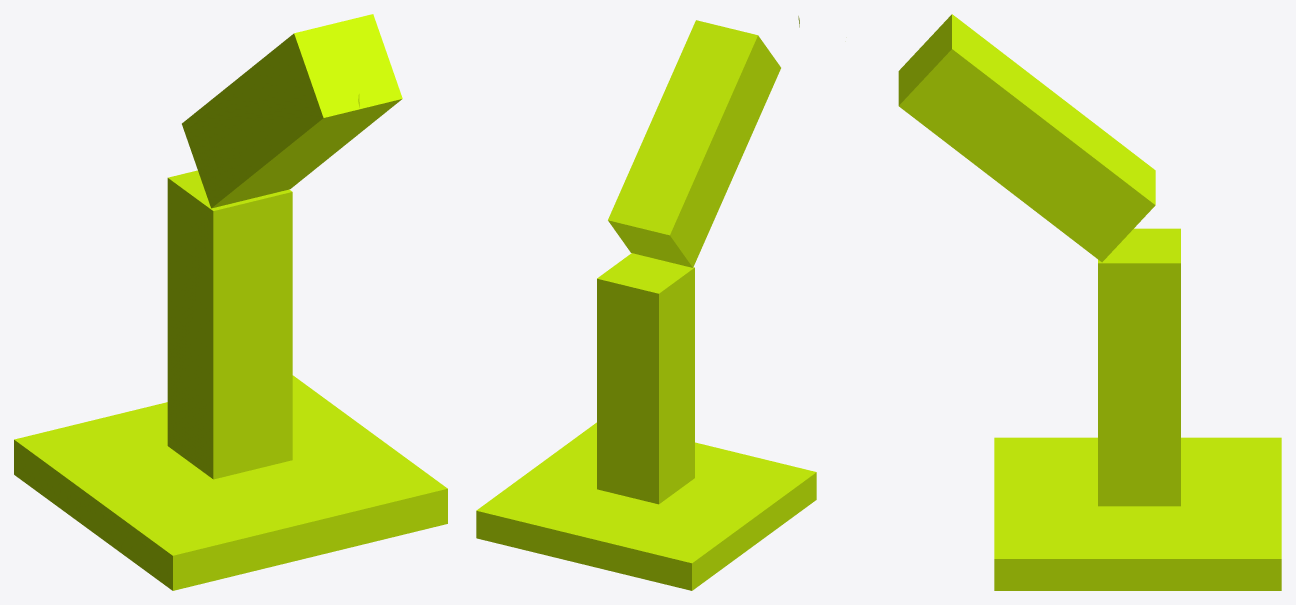
Rendered from light_proto_body.fbx.
3 views of the same model, side by side, from view 1: azimuth 30°, elevation 25°; view 2: azimuth 150°, elevation 25°; view 3: azimuth 270°, elevation 25° (orthographic). The views are drawn at different scales.
Visible parts, largest first — view 1: polySurface4; view 2: polySurface4; view 3: polySurface4.
Boxes of the visible parts, bbox=[...] form: polySurface4: bbox=[14, 14, 447, 590]; polySurface4: bbox=[476, 16, 816, 590]; polySurface4: bbox=[898, 14, 1281, 590].
Bounding box in the file's own units: 10 × 19.13 × 15.18.
1 material, 1 textured.
